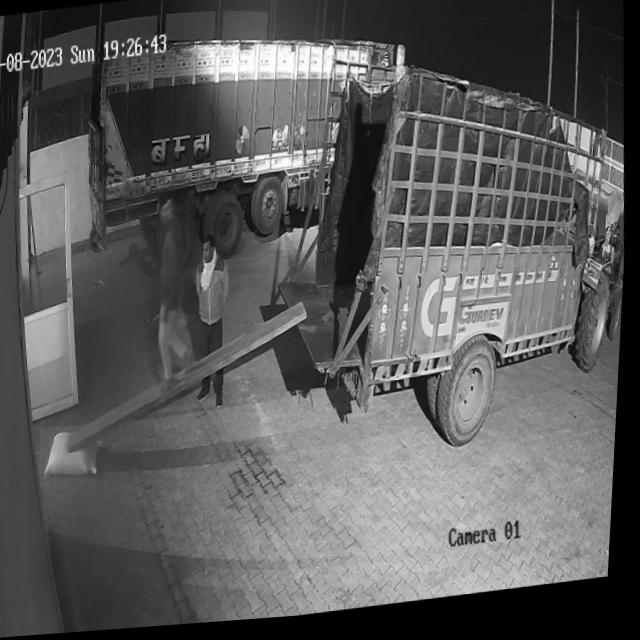sack: (48, 427, 108, 481)
